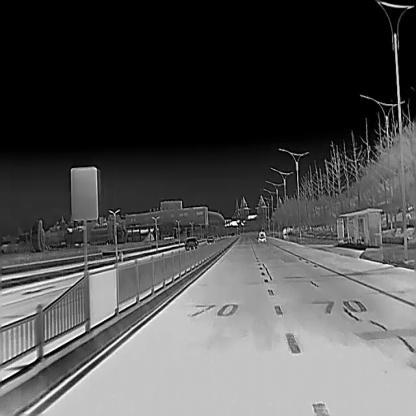car: (184, 238, 199, 251), (256, 229, 267, 242), (206, 234, 214, 243)
